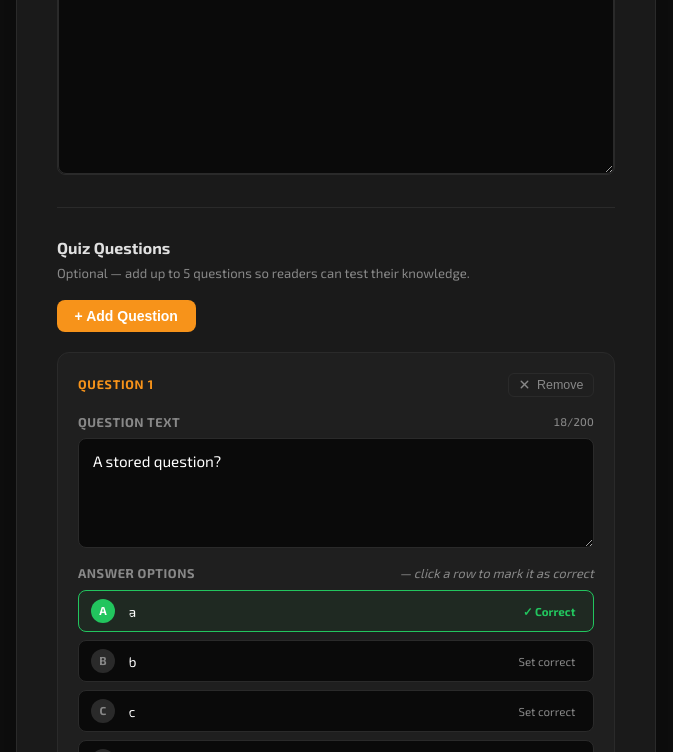
Scenario: editing an article › keeps a removed quiz question removed when the article is fetched again
(page scrolled)
Expected: the text "Question 1" is shown, [78,376,154,394]
Click the button "Remove" at (551,385), box [508,373,594,397]
(page scrolled)
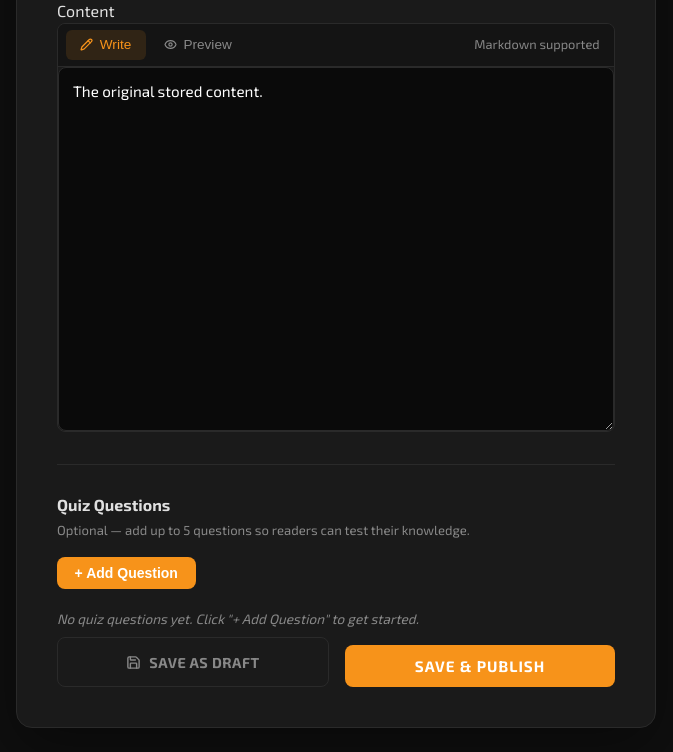
Now the text "Question 1" is gone
